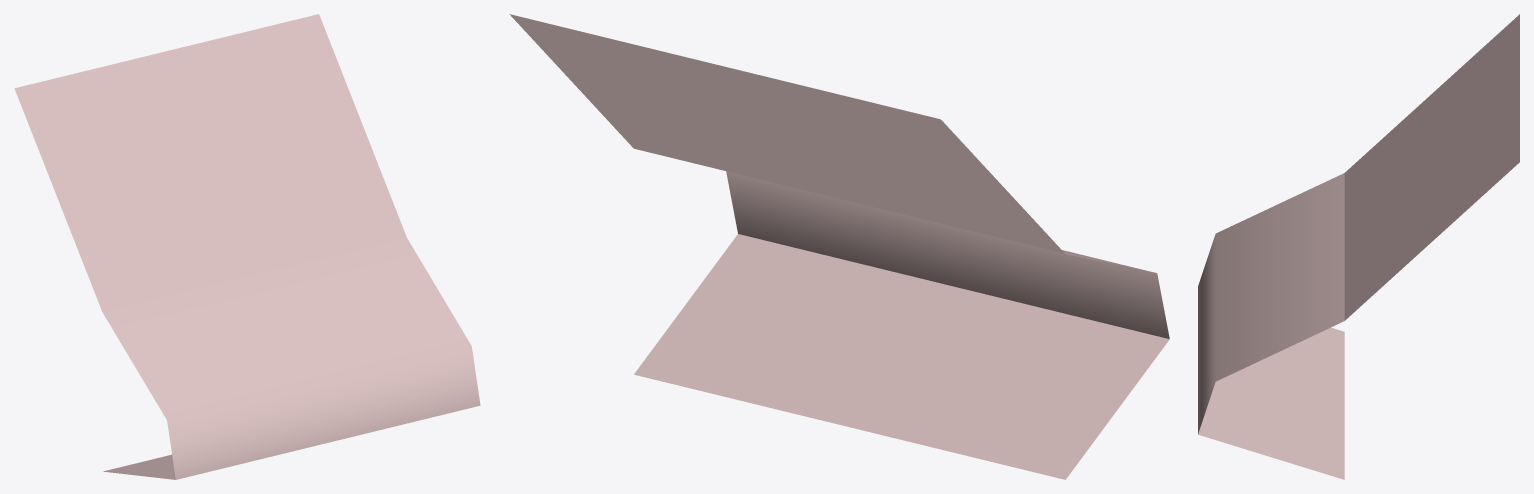
Rendered from castle_roof_02_bottom.fbx.
3 views of the same model, side by side, from view 1: azimuth 30°, elevation 25°; view 2: azimuth 150°, elevation 25°; view 3: azimuth 270°, elevation 25° (orthographic). The views are drawn at different scales.
Visible parts, largest first — view 1: castle_roof_02_bottom; view 2: castle_roof_02_bottom; view 3: castle_roof_02_bottom.
Part boxes in pixels (x1,y1,x2,y2): castle_roof_02_bottom: (14,14,480,479); castle_roof_02_bottom: (509,14,1169,479); castle_roof_02_bottom: (1198,14,1519,479).
Bounding box in the file's own units: 8 × 8 × 7.35.
